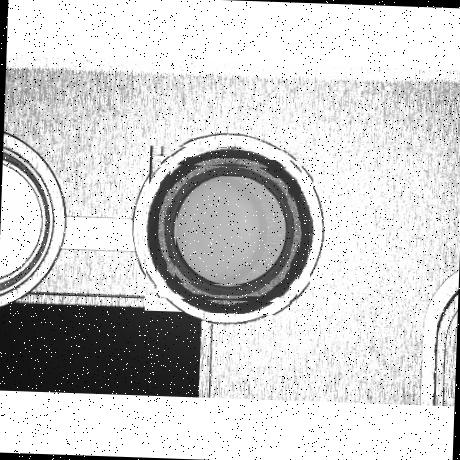Hole: (144, 144, 314, 316)
Hole2: (156, 156, 302, 302)
Hole3: (166, 163, 294, 297)
Hole4: (174, 174, 288, 286)
